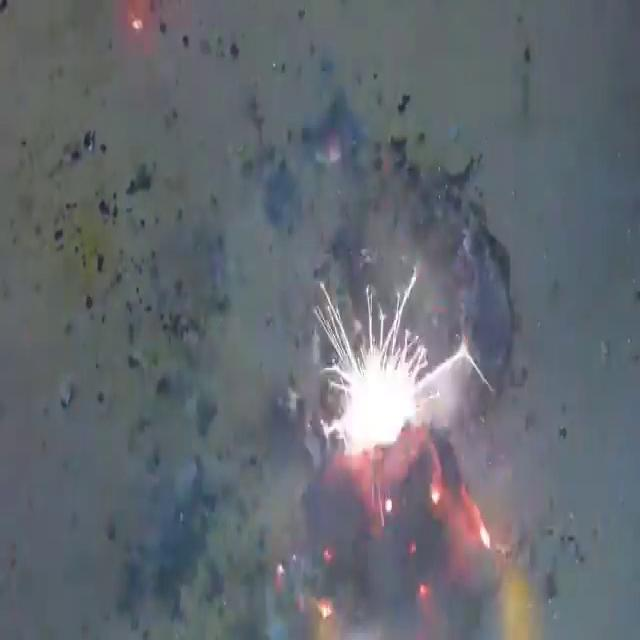Fire: (308, 262, 492, 462)
